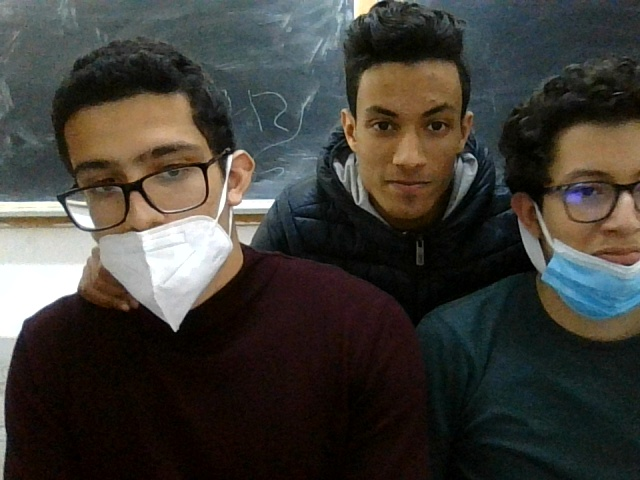mask_weared_incorrect: (66, 158, 231, 298), (529, 167, 640, 314)
without_mask: (361, 98, 468, 207)
